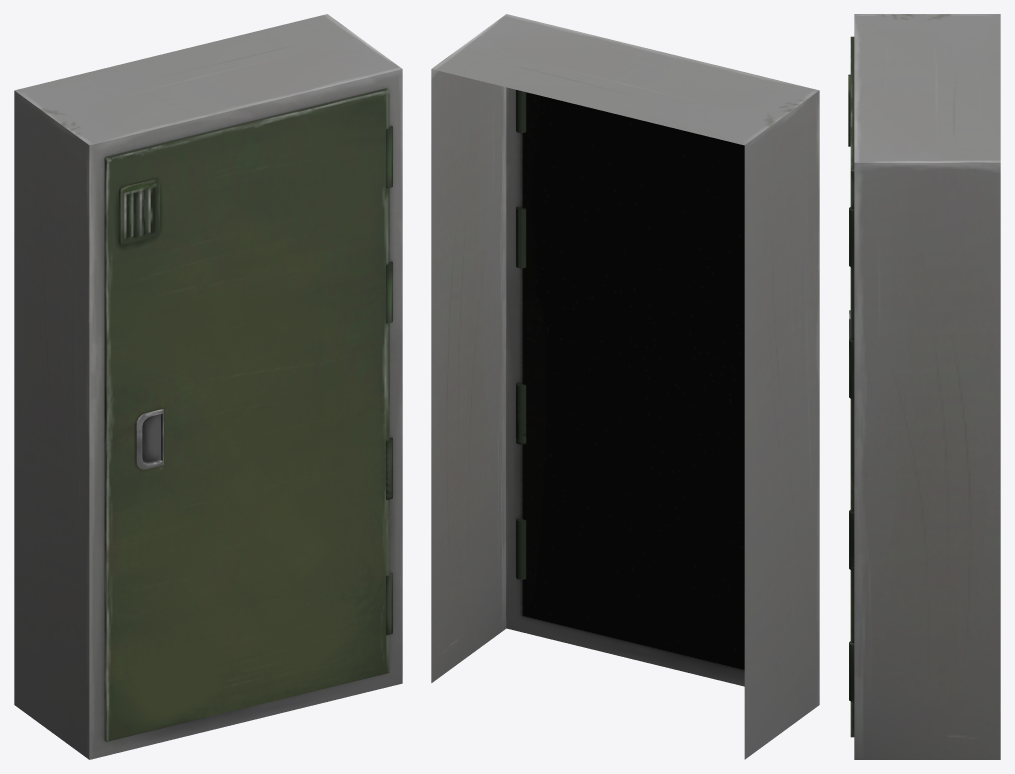
Rendered from LargeLocker.fbx.
3 views of the same model, side by side, from view 1: azimuth 30°, elevation 25°; view 2: azimuth 150°, elevation 25°; view 3: azimuth 270°, elevation 25° (orthographic). The views are drawn at different scales.
Parts seen in each view (by area): view 1: GrandCasier.001|GrandCasier_L_GrandCasier.blend|Dupli|; view 2: GrandCasier.001|GrandCasier_L_GrandCasier.blend|Dupli|; view 3: GrandCasier.001|GrandCasier_L_GrandCasier.blend|Dupli|.
Part boxes in pixels (bbox=[...]): GrandCasier.001|GrandCasier_L_GrandCasier.blend|Dupli|: bbox=[14, 14, 402, 759]; GrandCasier.001|GrandCasier_L_GrandCasier.blend|Dupli|: bbox=[431, 14, 819, 759]; GrandCasier.001|GrandCasier_L_GrandCasier.blend|Dupli|: bbox=[848, 14, 1000, 759].
Size of the model in its own units: 124 by 232 by 53.57.
